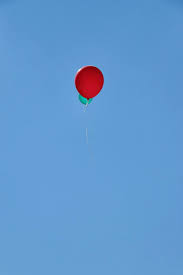Balloon: (75, 66, 104, 98)
